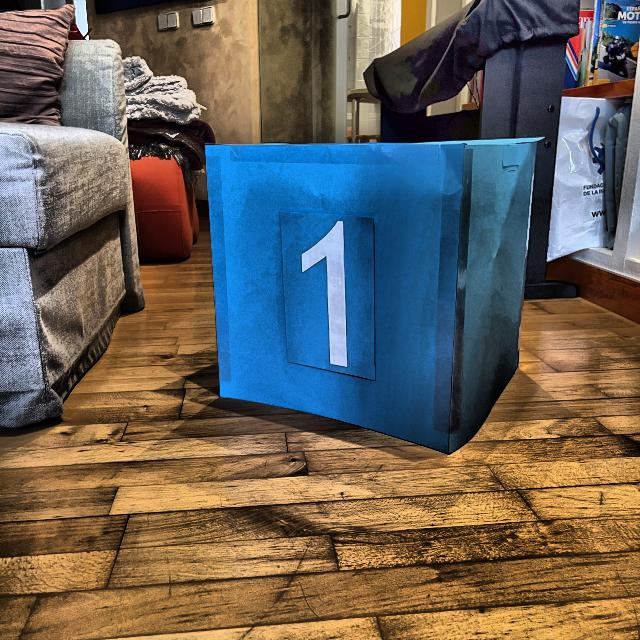blue box: (201, 134, 543, 458)
one: (294, 213, 357, 372)
